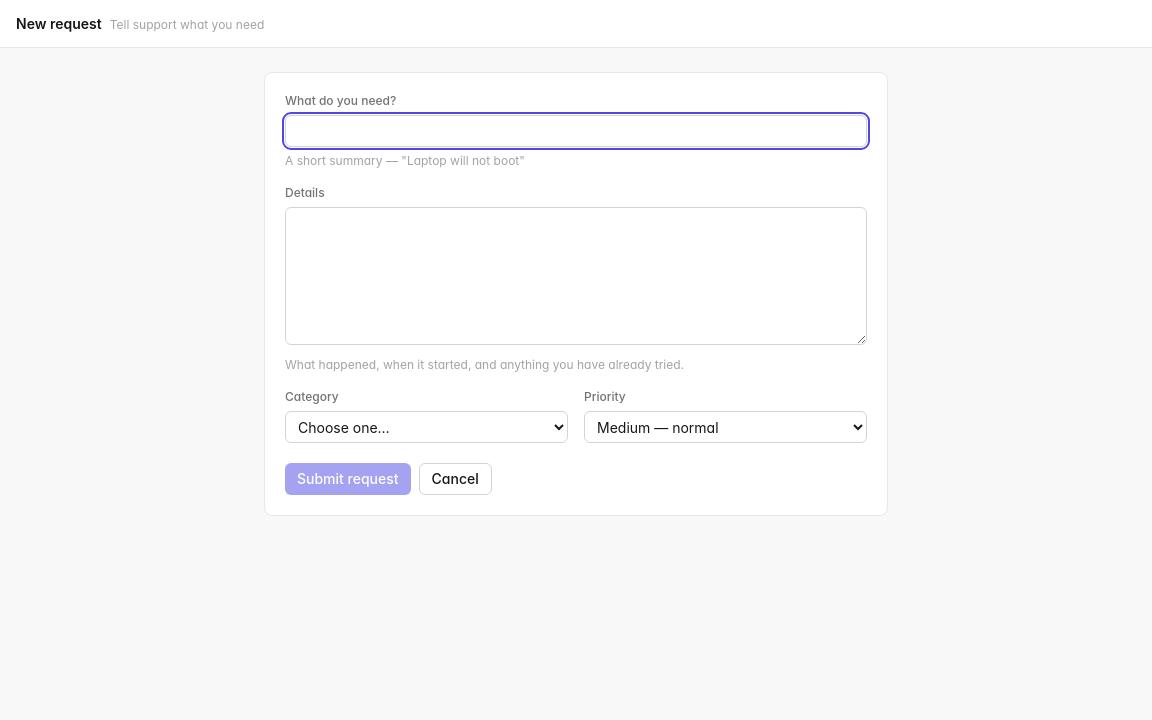
Test: when the API rejects the submission › shows an unattached message as an alert
The image size is (1152, 720).
Type "Laptop will not boot" into the field labelled "What do you need?" at point(576, 131), box [285, 115, 867, 147]
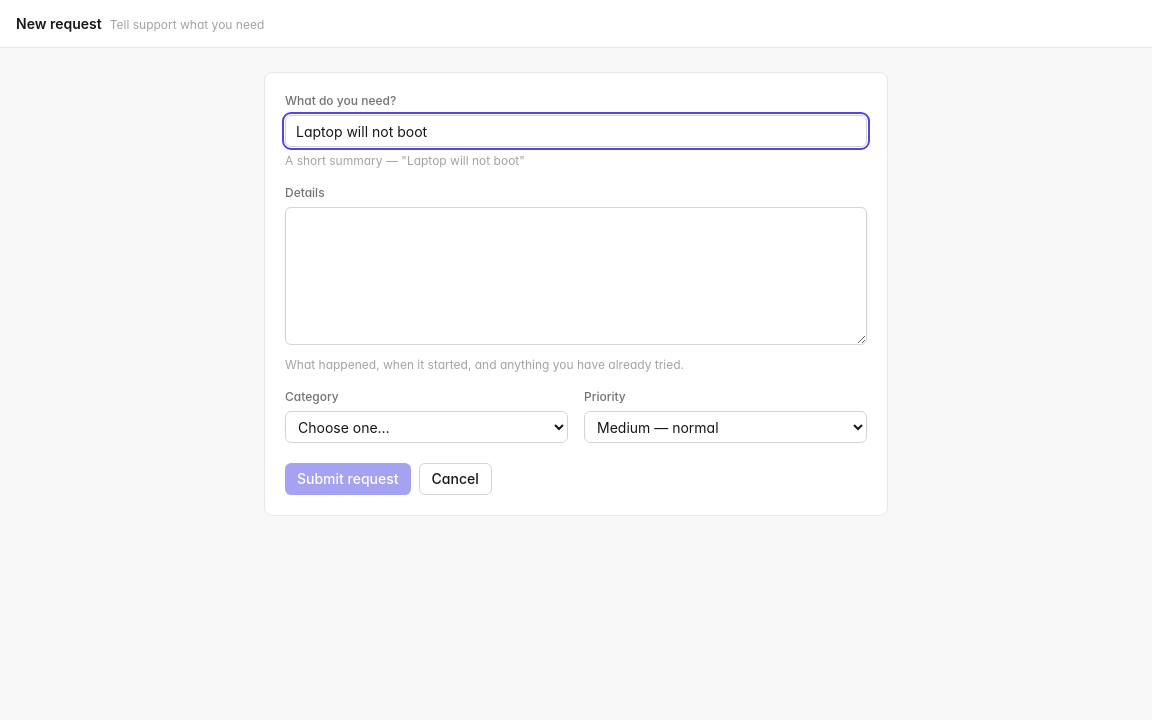
Type "It powers on, shows the logo, then restarts in a loop." into the text box labelled "Details" at point(576, 276), box [285, 207, 867, 345]
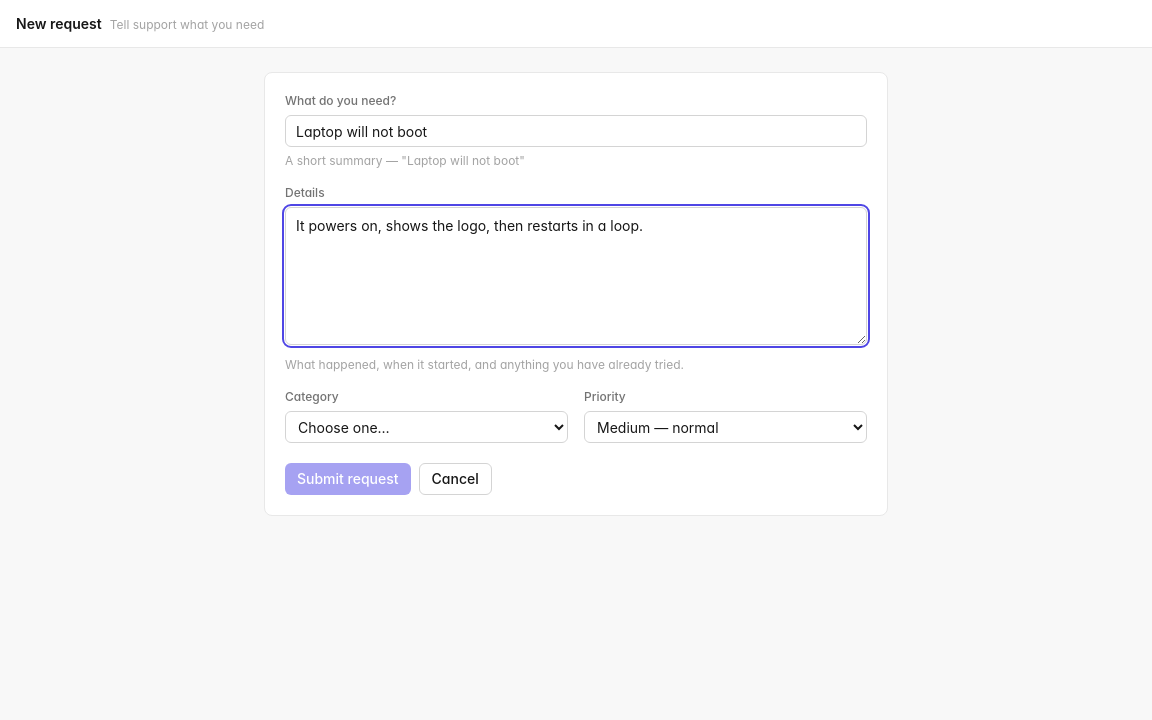
Select "IT — laptops, software, accounts, network" in the dropdown labelled "Category" at point(426, 427), box [285, 411, 568, 443]
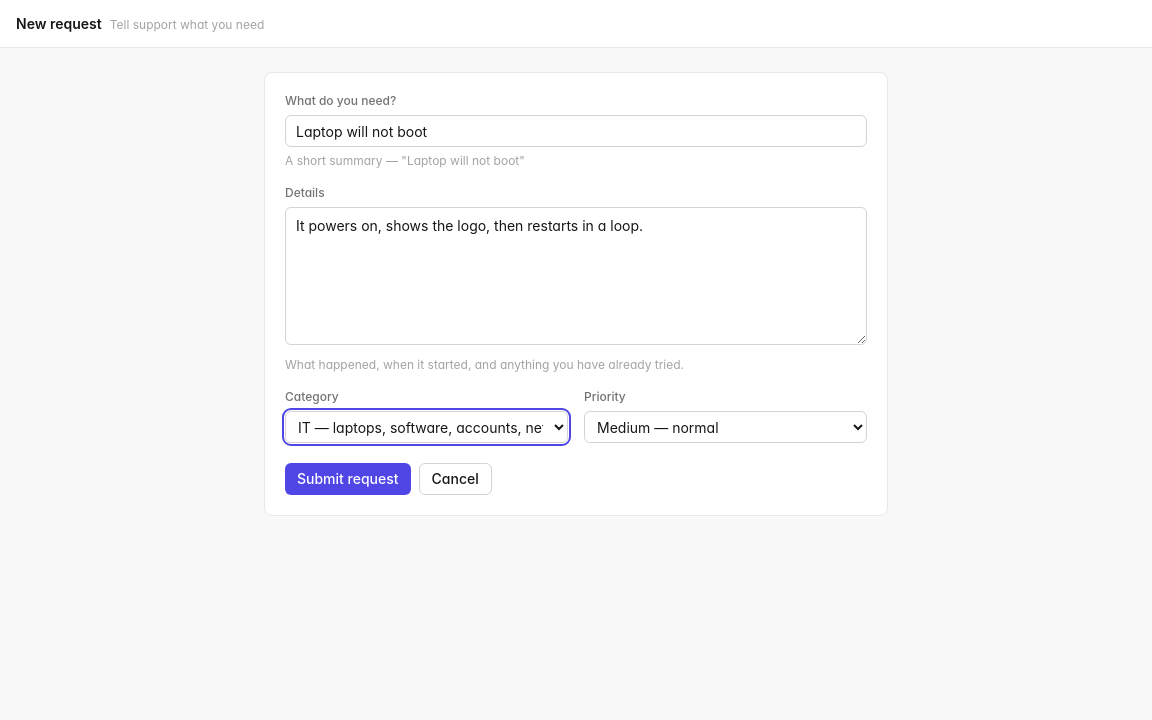
Click the button "Submit request" at point(348, 479), box [285, 463, 411, 495]
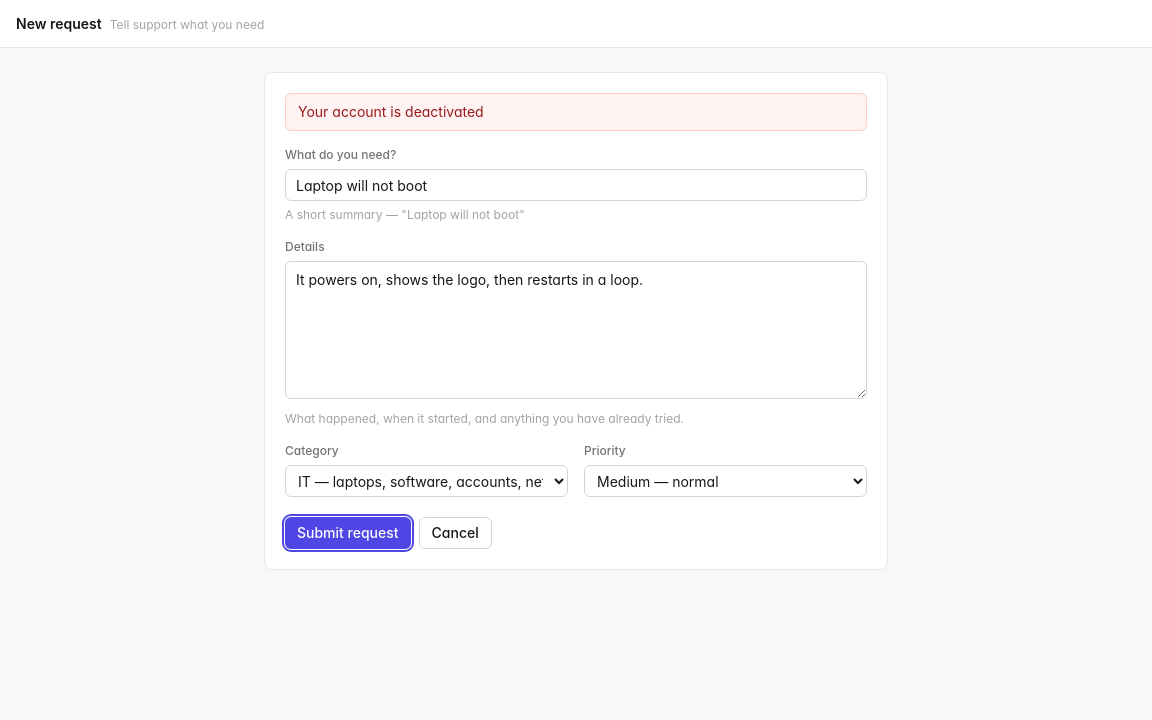
Check: the message reads "Your account is deactivated", box [298, 103, 484, 120]
